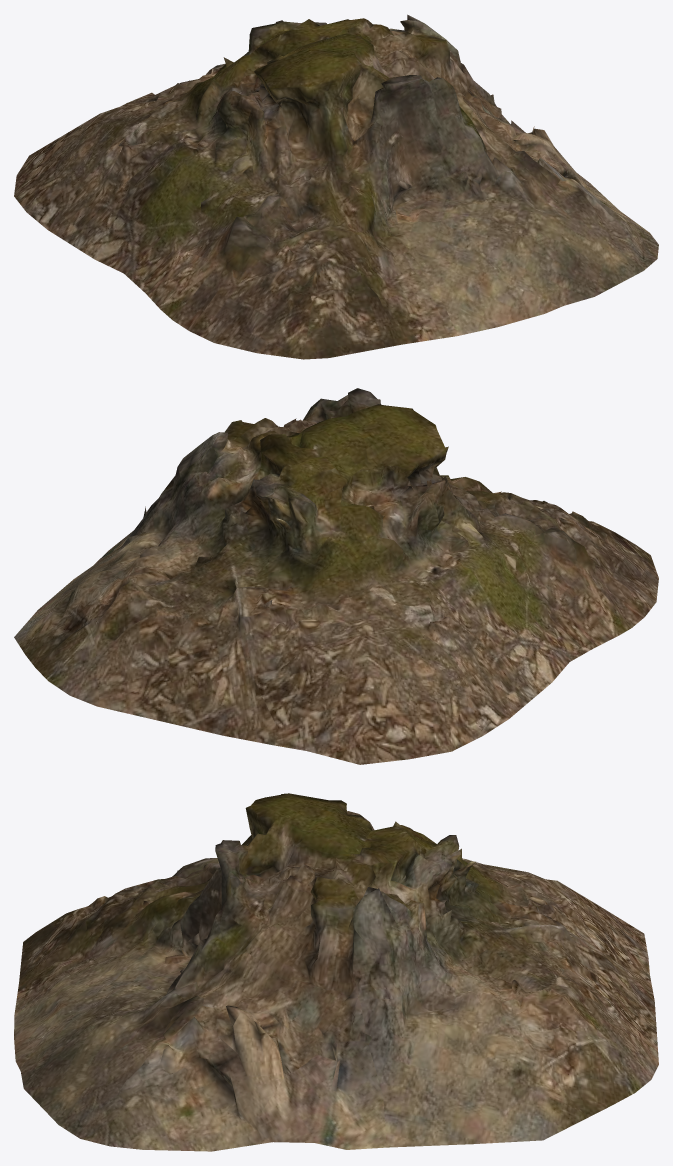
Rendered from tree_stump_01_1k.gltf.
3 renders of one model, top to bottom at view 1: azimuth 30°, elevation 25°; view 2: azimuth 150°, elevation 25°; view 3: azimuth 270°, elevation 25°, orthographic. The views are drawn at different scales.
Parts seen in each view (by area): view 1: tree_stump_01; view 2: tree_stump_01; view 3: tree_stump_01.
Part boxes in pixels (x1,y1,x2,y2): tree_stump_01: [14, 14, 658, 359]; tree_stump_01: [14, 388, 658, 764]; tree_stump_01: [14, 793, 658, 1151].
Size of the model in its own units: 1.43 by 0.571 by 1.59.
Materials: 1 (1 with a texture image).
